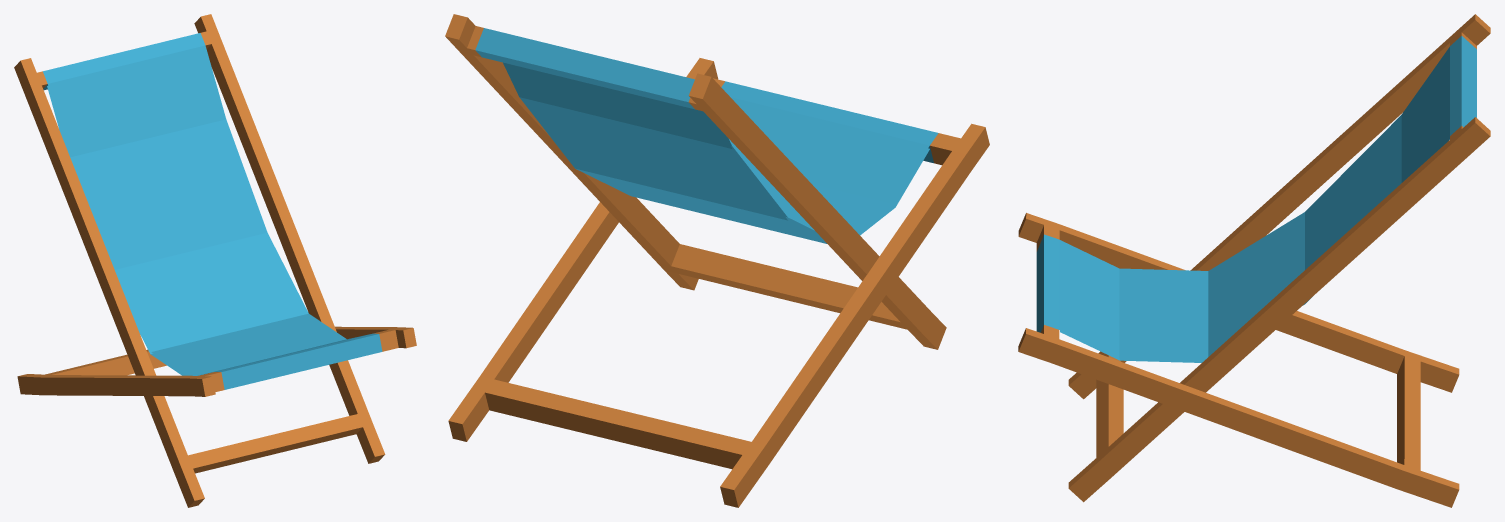
Rendered from Chair_tex.fbx.
The picture shows the model from 3 angles, left to right: view 1: azimuth 30°, elevation 25°; view 2: azimuth 150°, elevation 25°; view 3: azimuth 270°, elevation 25°; orthographic projection. The views are drawn at different scales.
Parts seen in each view (by area): view 1: Chair_tex; view 2: Chair_tex; view 3: Chair_tex.
Boxes of the visible parts, box(x1,y1,x2,y2) form: Chair_tex: box(14, 14, 416, 507); Chair_tex: box(445, 14, 989, 507); Chair_tex: box(1018, 14, 1490, 507).
Bounding box in the file's own units: 0.7783 × 1.14 × 1.28.
